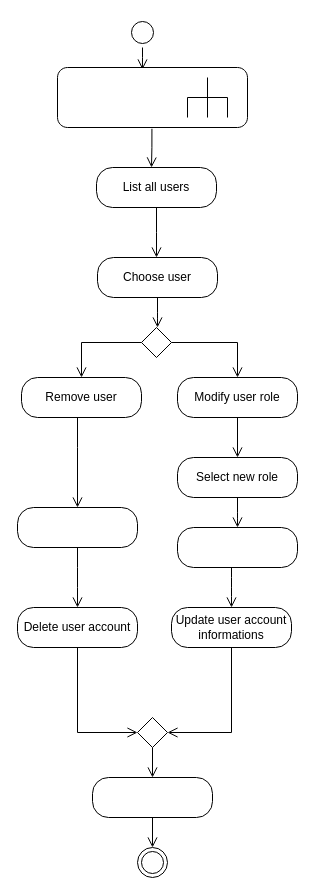
The diagram is 315 pixels wide and 895 high, and some of its shapes have lost their labels. The box of each missing label's shape, as (x1, y1, x2, y2) in pixels:
Confirm action: (16, 506, 138, 548)
Confirm changes: (92, 776, 212, 818)
Confirm update: (176, 526, 298, 568)
login: (56, 66, 248, 128)
